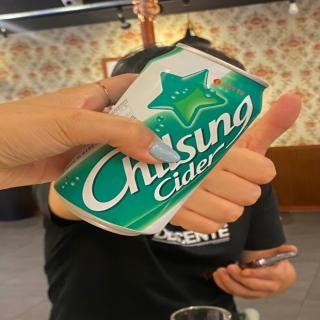cocacola: (49, 40, 273, 237)
